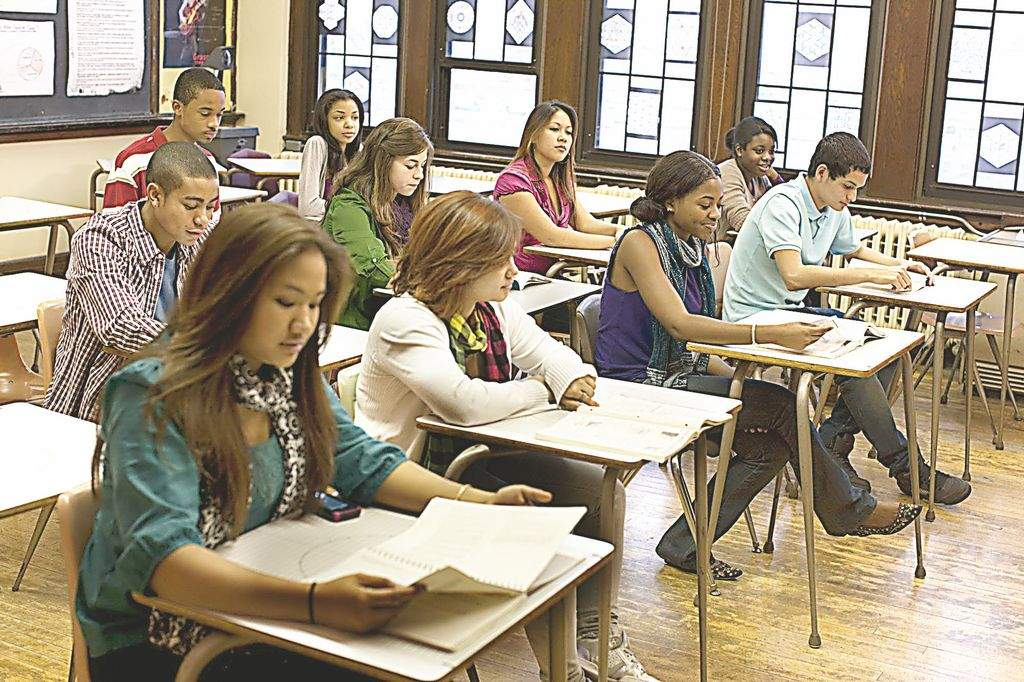students: (78, 202, 551, 680), (352, 187, 662, 681), (597, 148, 922, 582), (720, 130, 974, 505), (42, 140, 218, 422), (492, 100, 630, 285), (323, 119, 435, 330), (101, 68, 227, 206), (709, 117, 785, 247), (296, 88, 366, 223)
